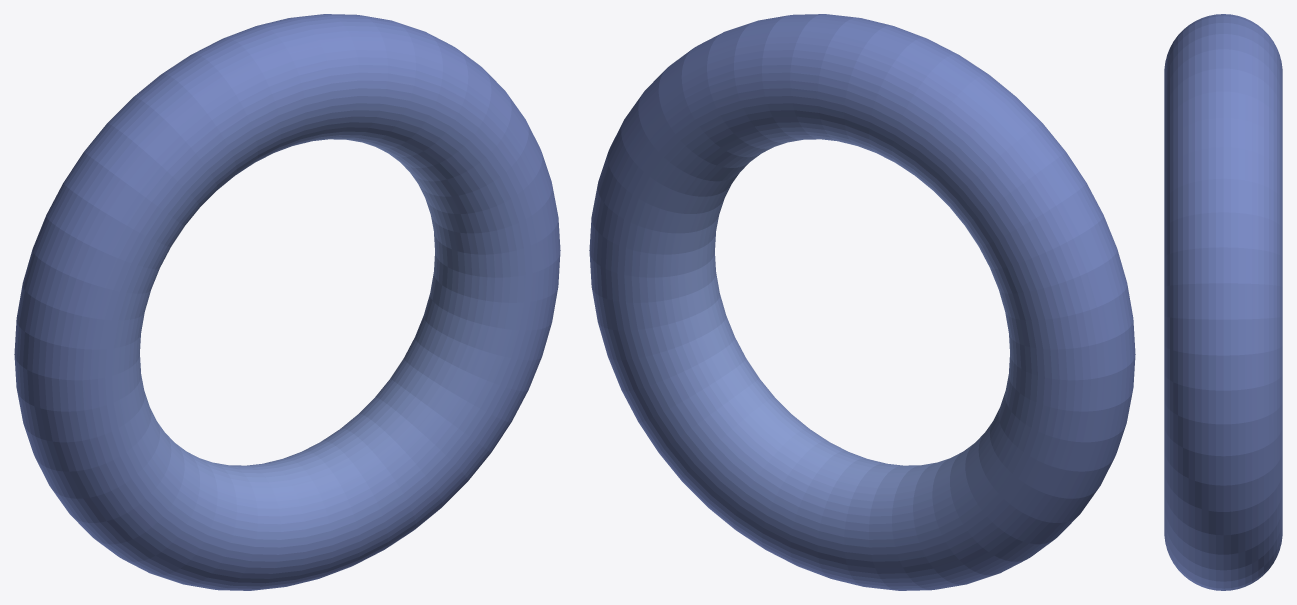
3 views of the same model, side by side, from view 1: azimuth 30°, elevation 25°; view 2: azimuth 150°, elevation 25°; view 3: azimuth 270°, elevation 25° (orthographic). The views are drawn at different scales.
Parts seen in each view (by area): view 1: world; view 2: world; view 3: world.
Boxes of the visible parts, <box> form: world: <box>14,14,560,590</box>; world: <box>589,14,1135,590</box>; world: <box>1164,14,1282,590</box>.
Bounding box in the file's own units: 20.13 × 20.09 × 4.13.
